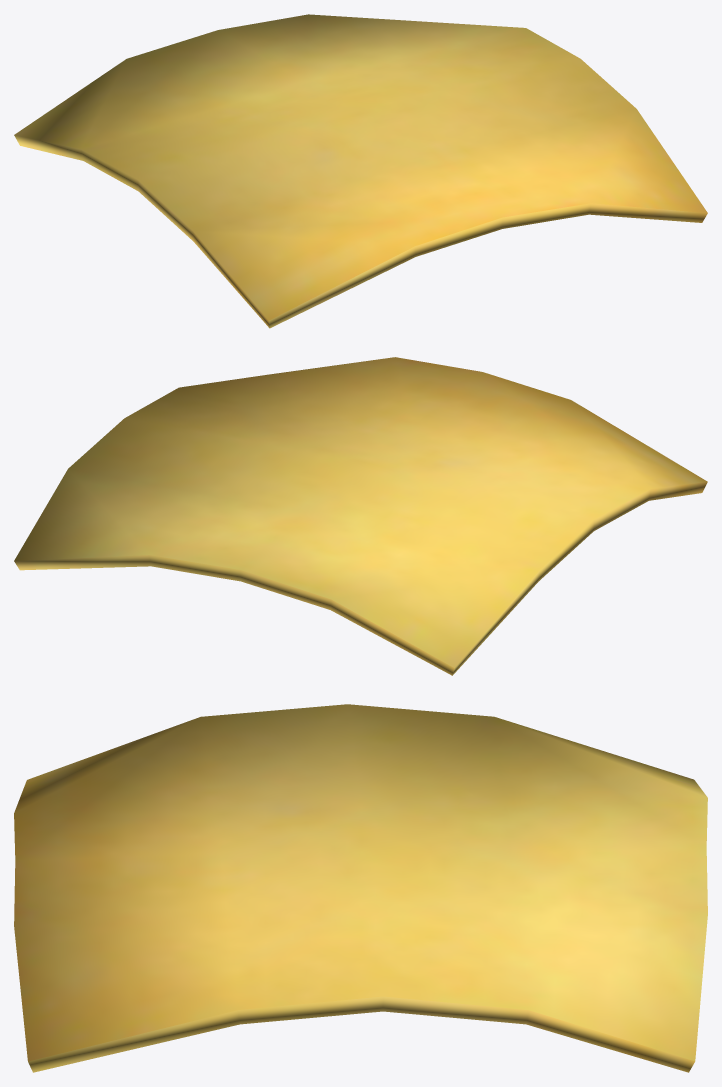
Rendered from cheese.fbx.
3 views of the same model, one above another, from view 1: azimuth 30°, elevation 25°; view 2: azimuth 150°, elevation 25°; view 3: azimuth 270°, elevation 25° (orthographic). The views are drawn at different scales.
Visible parts, largest first — view 1: cheese; view 2: cheese; view 3: cheese.
Boxes of the visible parts, x1,y1,x2,y2 form: cheese: (14,14,707,328); cheese: (14,357,707,675); cheese: (14,704,707,1072).
Size of the model in its own units: 10.23 by 1.51 by 10.22.
1 material, 1 textured.
